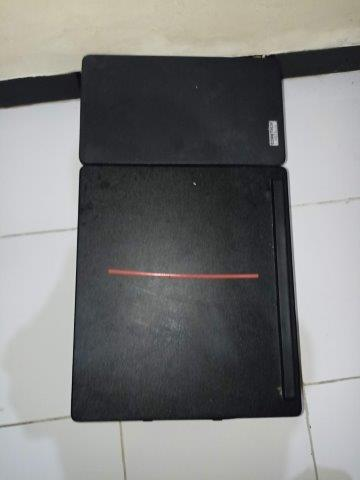sedotan: (109, 268, 258, 280)
